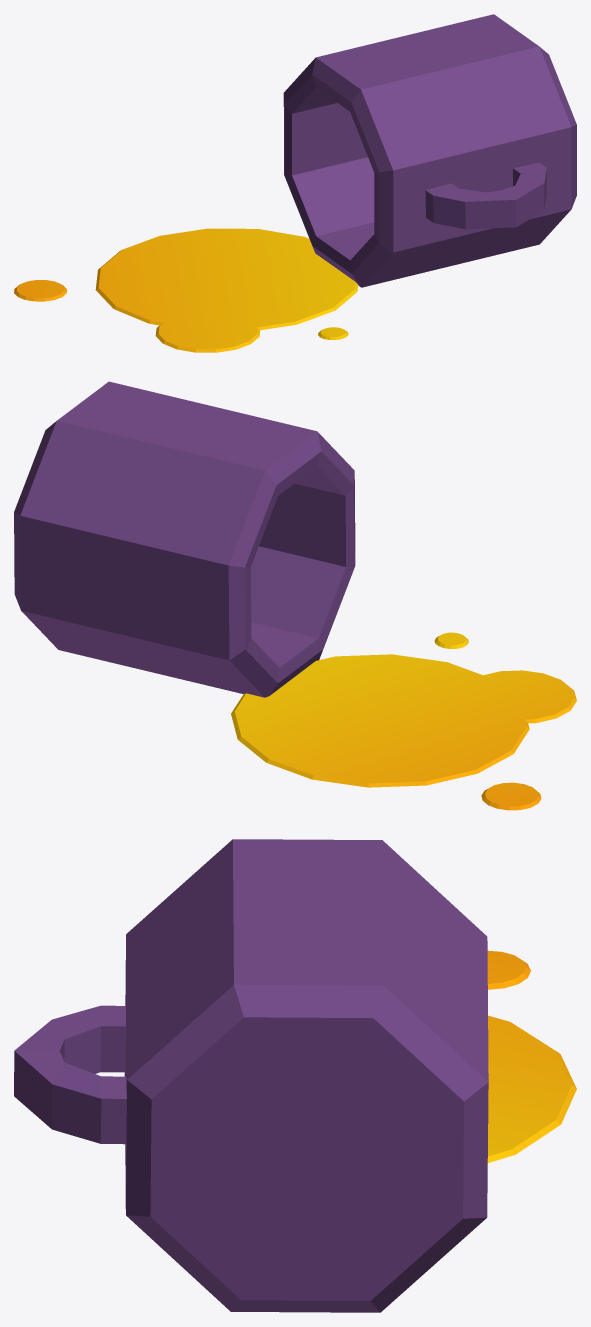
File: Purple_Spill.fbx
3 views of the same model, one above another, from view 1: azimuth 30°, elevation 25°; view 2: azimuth 150°, elevation 25°; view 3: azimuth 270°, elevation 25° (orthographic). The views are drawn at different scales.
Visible parts, largest first — view 1: Purple_Spill; view 2: Purple_Spill; view 3: Purple_Spill.
Boxes of the visible parts, <box> form: Purple_Spill: <box>14,14,576,352</box>; Purple_Spill: <box>14,381,576,810</box>; Purple_Spill: <box>14,839,576,1312</box>.
Bounding box in the file's own units: 123 × 51.03 × 78.82.
